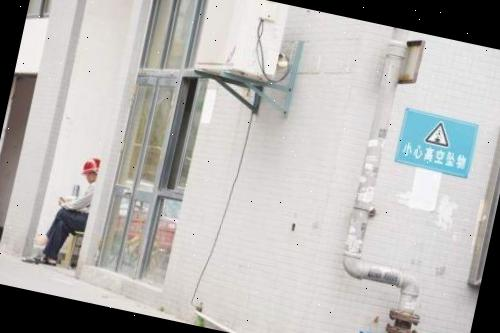helmet: (81, 155, 108, 179)
